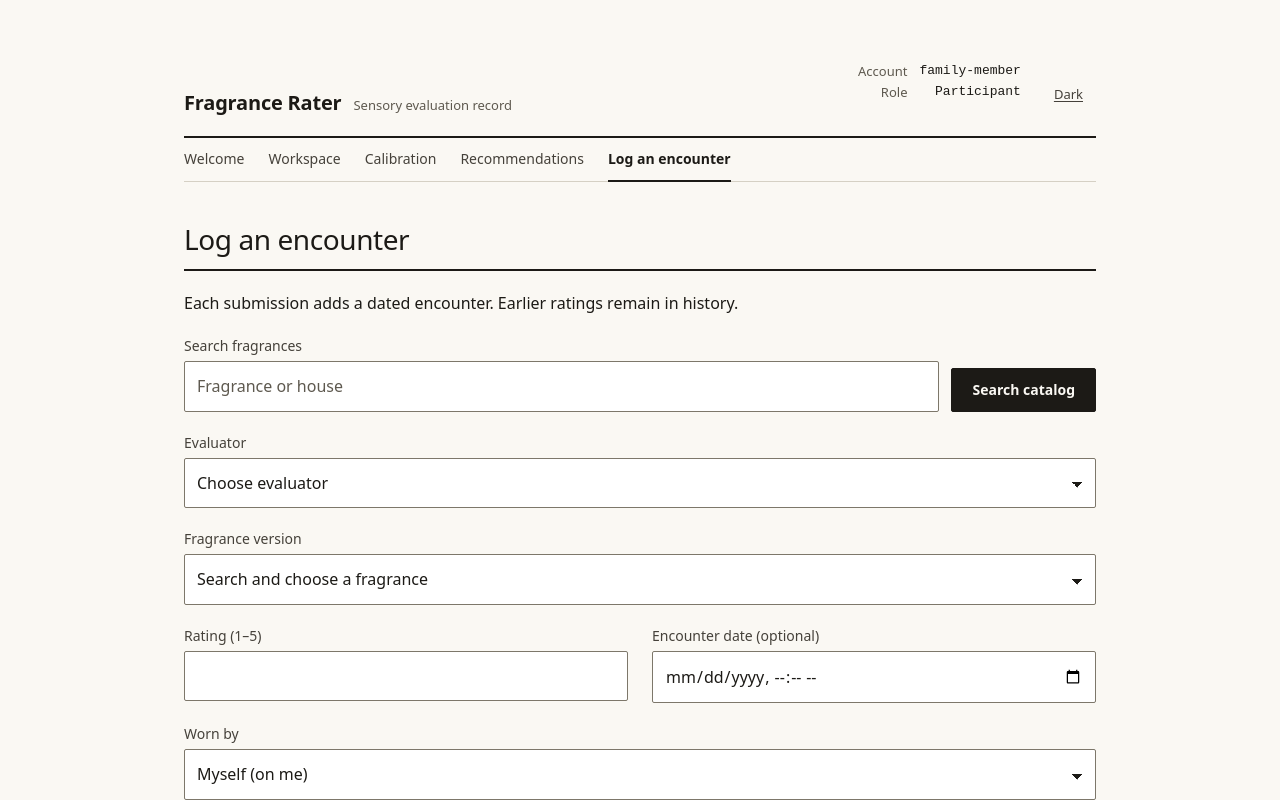
Test case: Calibration participant workflow › renders the on-{name} indicator for a worn-by history entry
Select "Evaluator" in the dropdown labelled "Evaluator": (640, 483) x1=184 y1=458 x2=1096 y2=508
(page scrolled)
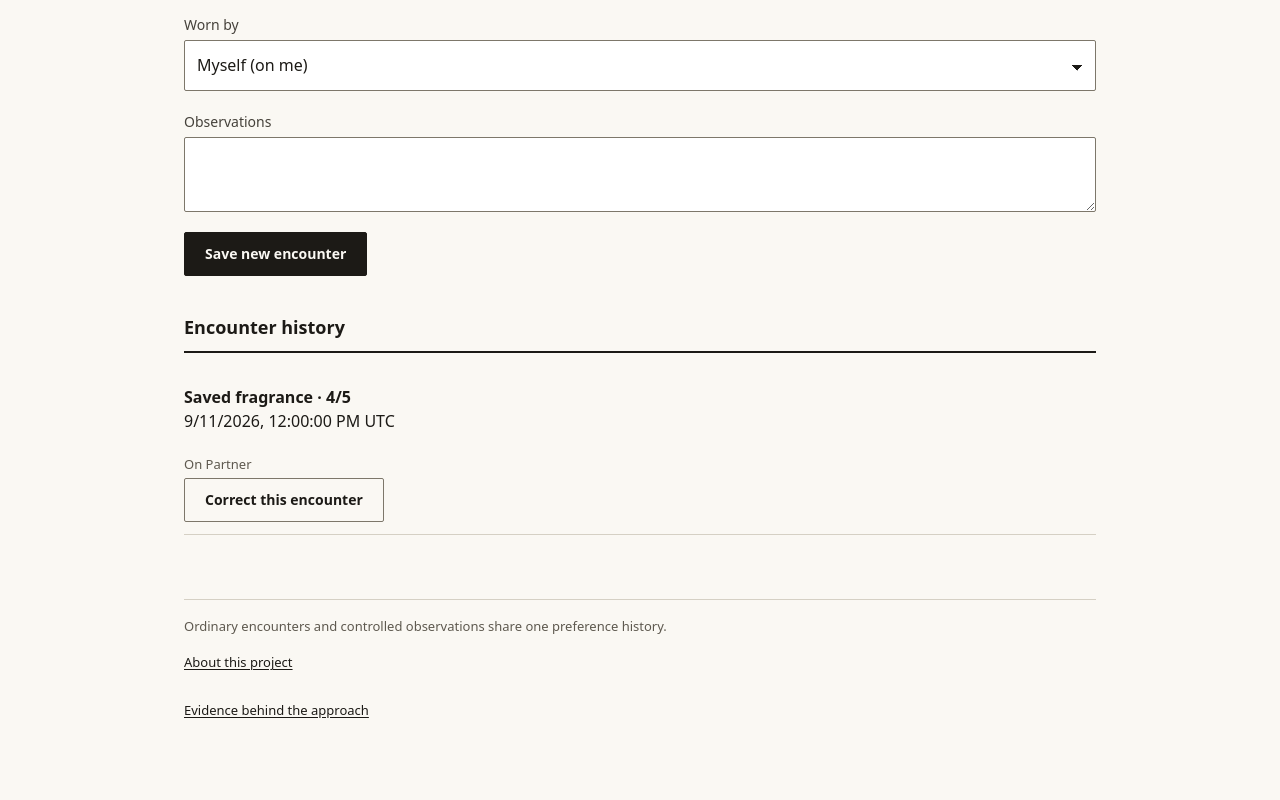
expect the text "On Partner" is shown: met, box x1=184 y1=455 x2=252 y2=473
